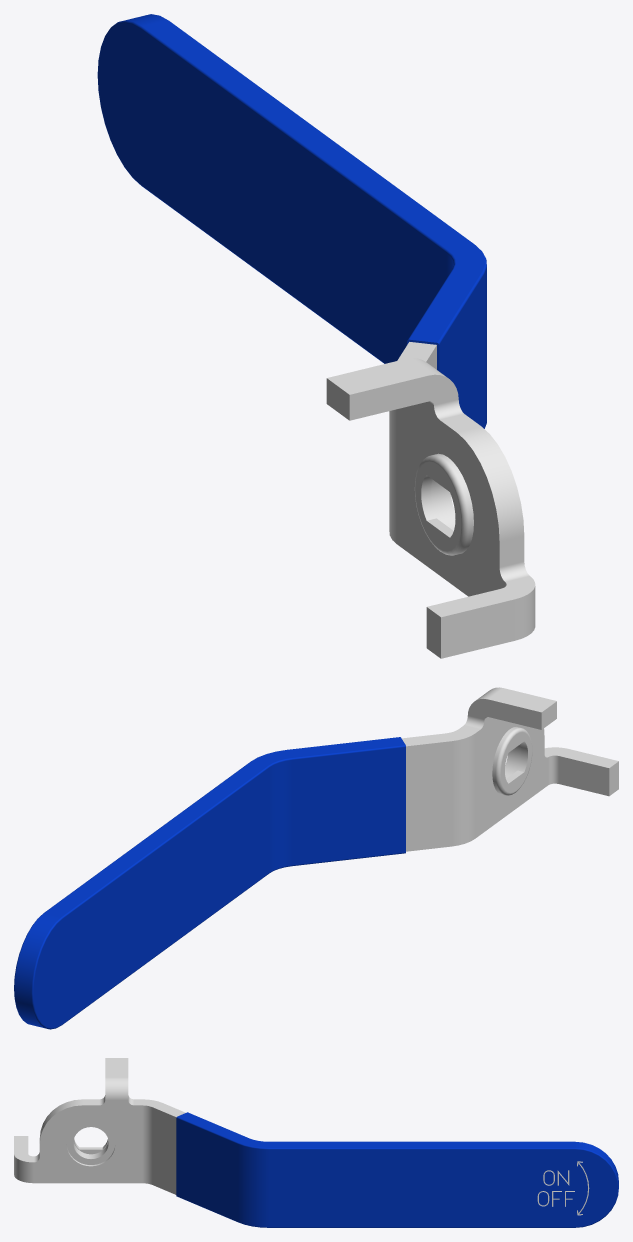
File: lever.dae
The picture shows the model from 3 angles, top to bottom: view 1: azimuth 30°, elevation 25°; view 2: azimuth 150°, elevation 25°; view 3: azimuth 270°, elevation 25°; orthographic projection. The views are drawn at different scales.
Visible parts, largest first — view 1: o Mesh, o Mesh_3; view 2: o Mesh, o Mesh_3; view 3: o Mesh (×2), o Mesh_3.
Boxes of the visible parts, <box> form: o Mesh: <box>97,14,486,428</box>; o Mesh_3: <box>326,342,535,658</box>; o Mesh: <box>14,737,405,1029</box>; o Mesh_3: <box>401,687,618,851</box>; o Mesh (×2): <box>176,1112,618,1227</box>; o Mesh_3: <box>14,1058,185,1194</box>.
Bounding box in the file's own units: 0.0292 × 0.0192 × 0.1057.
